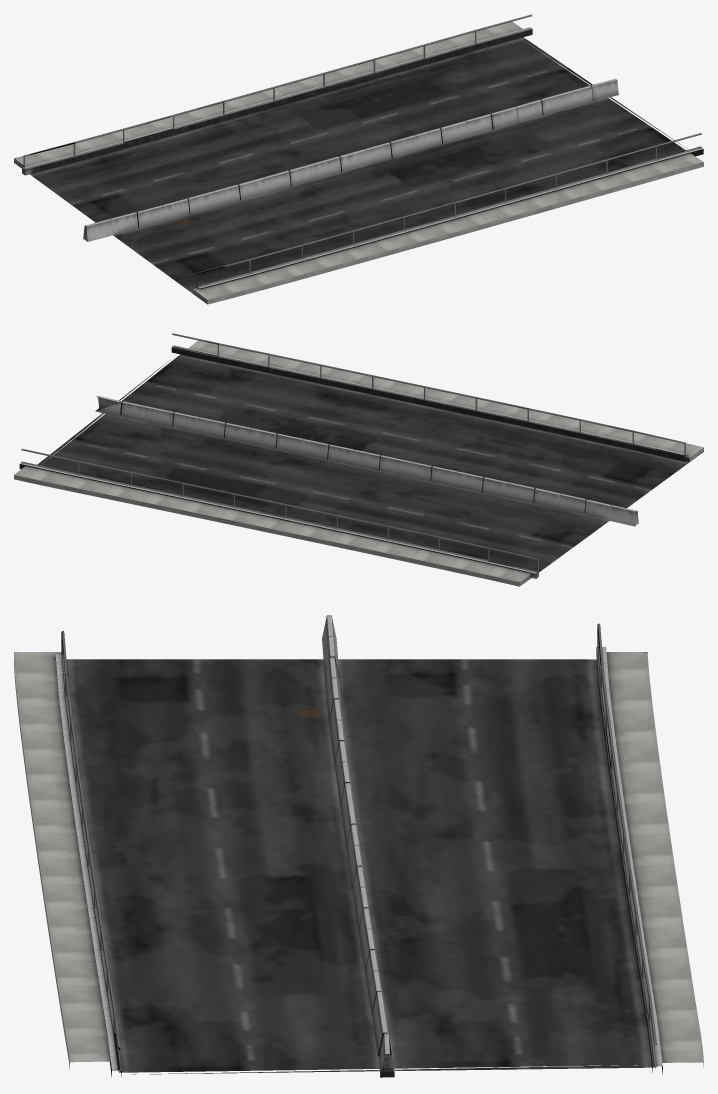
File: Road.fbx
The picture shows the model from 3 angles, top to bottom: view 1: azimuth 30°, elevation 25°; view 2: azimuth 150°, elevation 25°; view 3: azimuth 270°, elevation 25°; orthographic projection. The views are drawn at different scales.
Parts seen in each view (by area): view 1: Road_Baked; view 2: Road_Baked; view 3: Road_Baked.
Boxes of the visible parts, x1=… form: Road_Baked: x1=14, y1=14, x2=703, y2=304; Road_Baked: x1=14, y1=333, x2=703, y2=586; Road_Baked: x1=14, y1=615, x2=703, y2=1077.
Size of the model in its own units: 21.4 by 14.15 by 0.726.
1 material, 1 textured.
